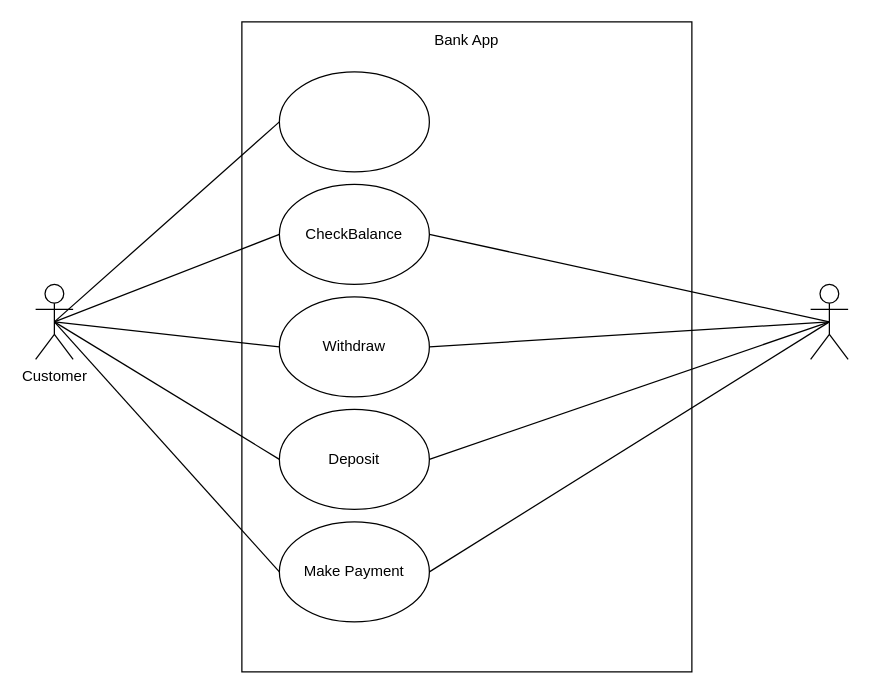
Some shapes in this 870 by 694 pixel diagram are drawn without their labels. The shapes that lost their labels are listed below. From the top down, each one's box as (x1, y1, x2, y2) in pixels, then its label:
(278, 71, 429, 172): Log In
(809, 283, 848, 359): Bank
